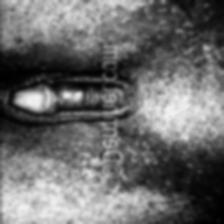Non-Cancerous Skin Condition: (124, 0, 224, 208), (11, 0, 97, 224)
